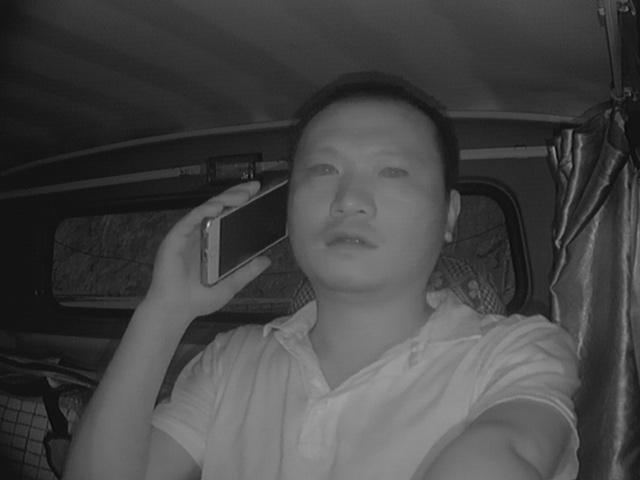hand: (150, 183, 275, 319)
